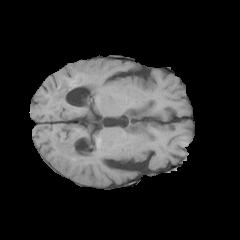glioma: (47, 76, 99, 174)
